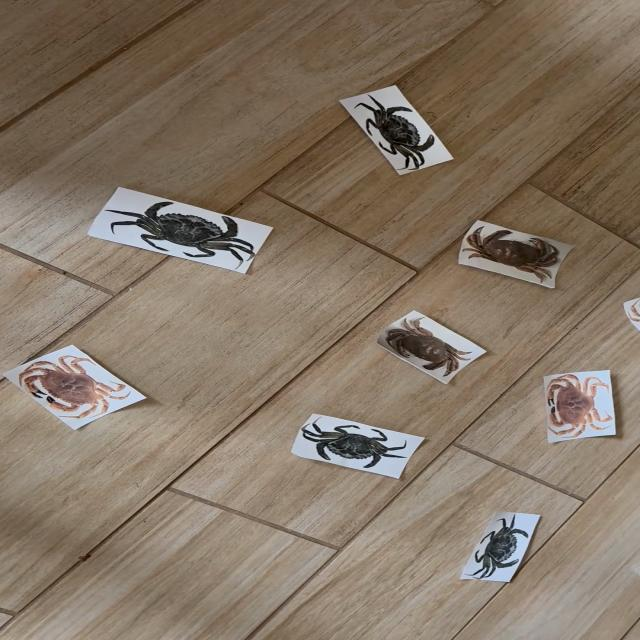egc: (112, 202, 252, 265), (361, 98, 434, 170), (302, 422, 406, 468), (468, 515, 529, 579)
